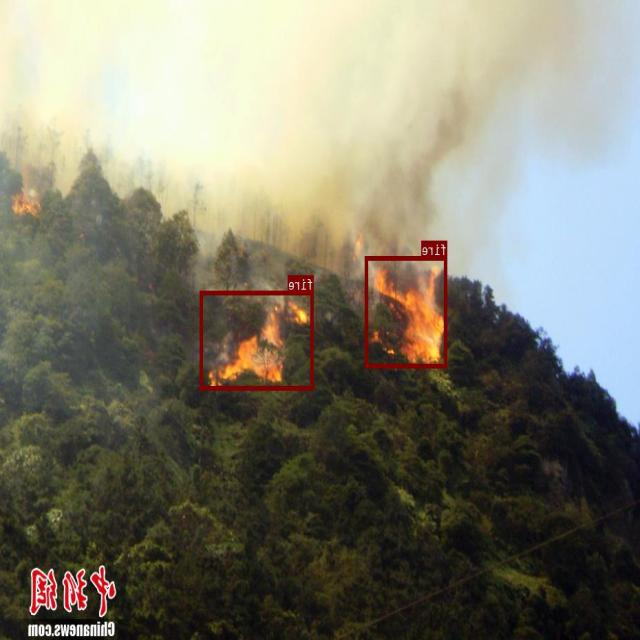fire: (200, 290, 314, 389), (366, 256, 448, 367)
